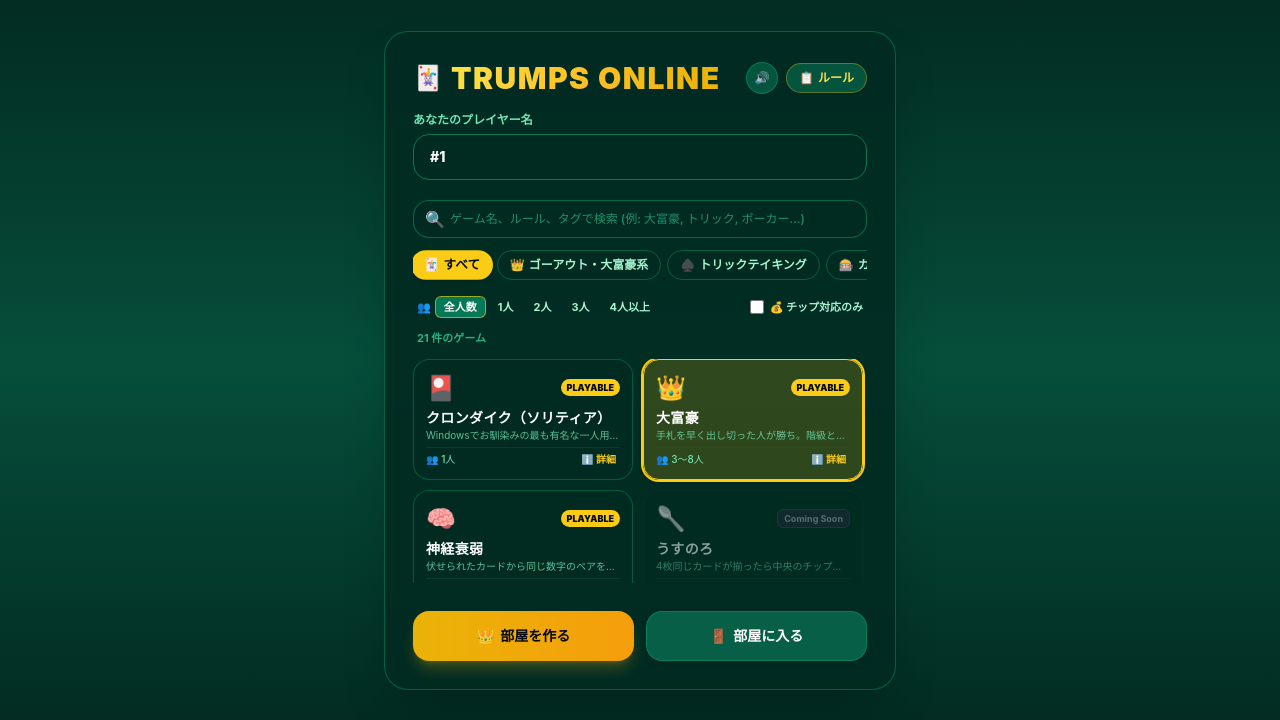
Test: LobbyScreen Component › 神経衰弱選択時にルールボタンを押すと、神経衰弱のルールモーダルが表示されること
// Select memory game
Click the text "神経衰弱": (455, 548) [426,540,483,556]
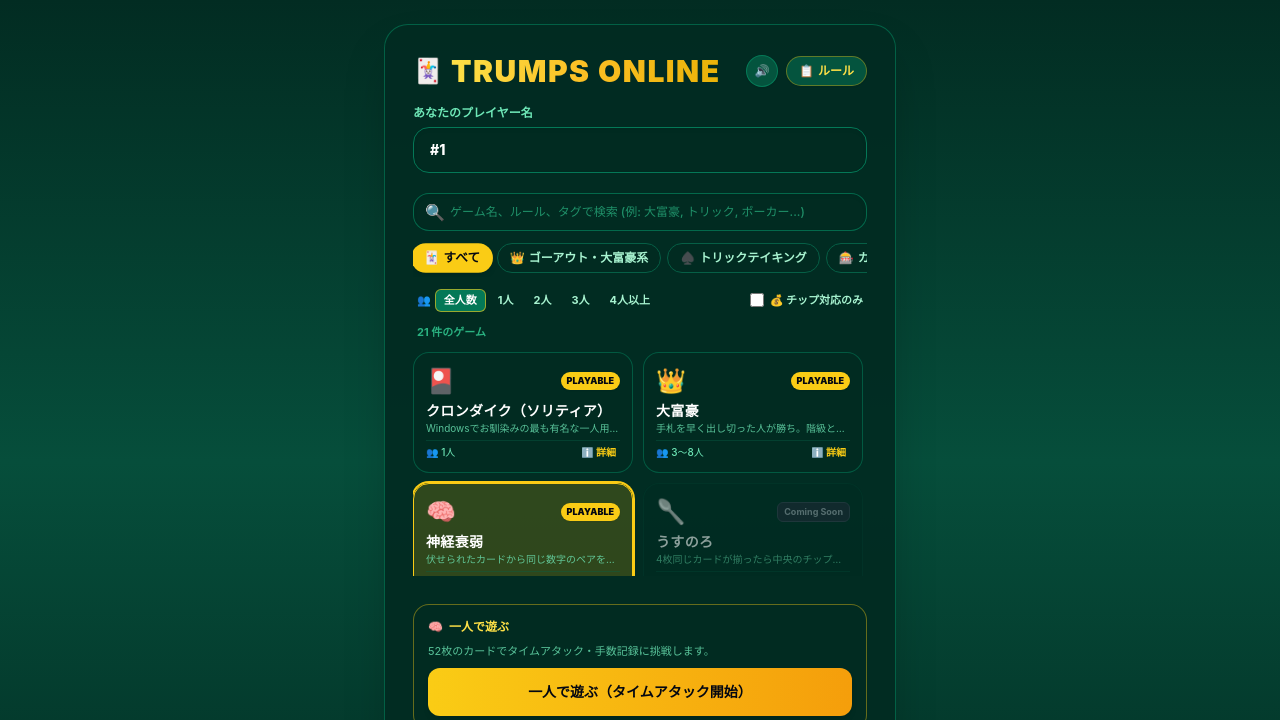
// Click rules button
Click the button with test id "open-rules-button": (826, 71) [786,56,867,86]
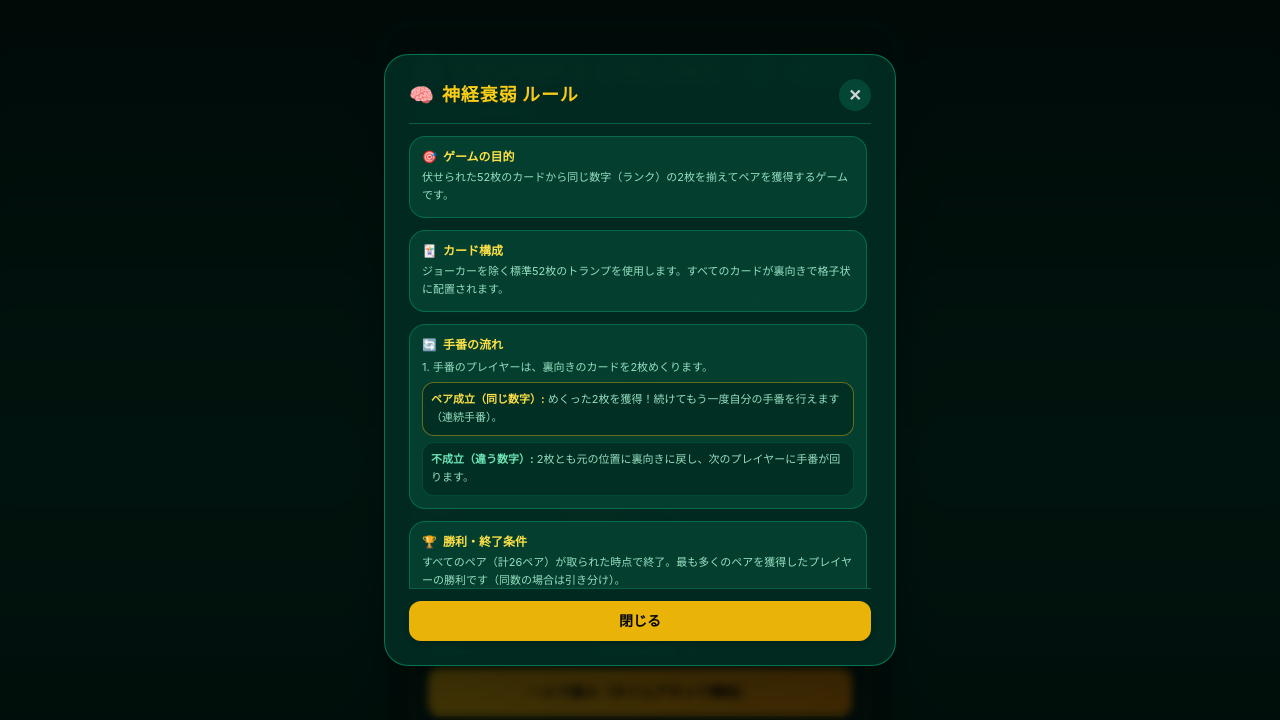
Expected: the dialog with test id "rules-modal" is shown
Expected: the heading "神経衰弱 ルール" is shown, [442,81,579,109]
Expected: the text "ゲームの目的" is shown, [443,149,515,165]
